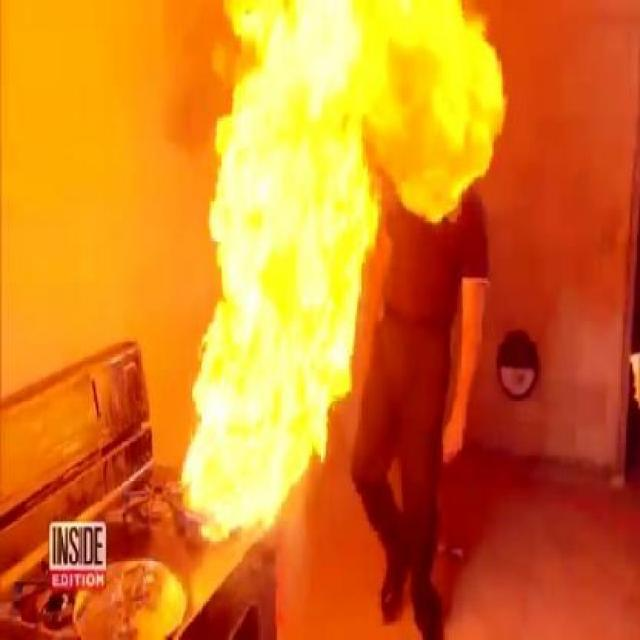fire: (189, 64, 366, 527)
